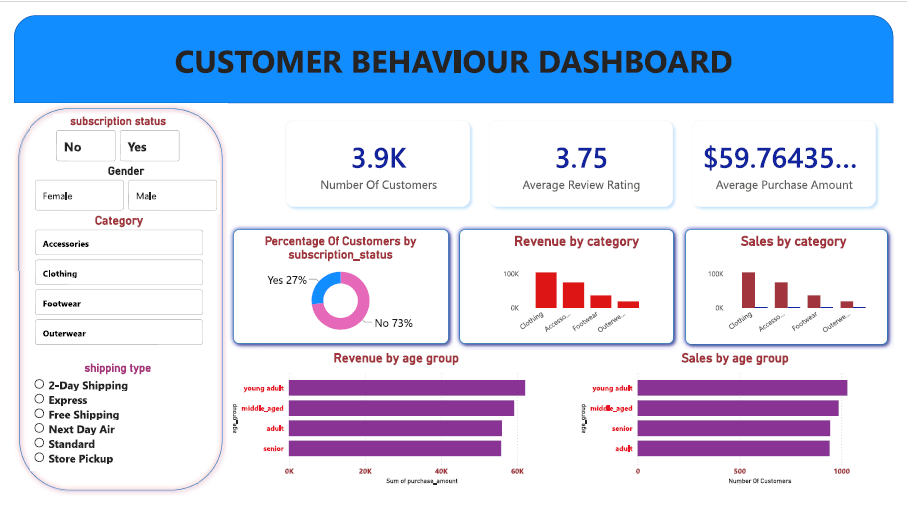

Layout of this report page (visuals, bound fields, positions):
{"tool":"powerbi","page":{"name":"Page 1","canvas":[1500,820],"ordinal":0},"visuals":[{"type":"cardVisual","fields":{"Data":["customer_shopping_behavior.Number Of Customers","customer_shopping_behavior.Average Review Rating","customer_shopping_behavior.Average Purchase Amount"]},"box":[435,149.6,1065,206.7],"z":0},{"type":"shape","box":[0,0,1500,149.6],"z":1000},{"type":"textbox","box":[0,35.4,1500,114.2],"z":2000},{"type":"shape","box":[364.9,357.2,386,213.2],"z":3000},{"type":"donutChart","title":"Percentage Of Customers by subscription_status","fields":{"Category":["customer_shopping_behavior.subscription_status"],"Y":["customer_shopping_behavior.Number Of Customers"]},"box":[388,372.6,338,182.5],"z":4000},{"type":"shape","box":[751,357.2,384.1,213.2],"z":5000},{"type":"shape","box":[1135.8,356.3,364.2,214.6],"z":6000},{"type":"clusteredColumnChart","title":"Revenue by category","fields":{"Category":["customer_shopping_behavior.category"],"Y":["Sum(customer_shopping_behavior.purchase_amount)"]},"box":[828.7,372,261.8,183.1],"z":7000},{"type":"clusteredColumnChart","title":"Sales by category","fields":{"Category":["customer_shopping_behavior.category"],"Y":["Sum(customer_shopping_behavior.purchase_amount)","customer_shopping_behavior.Number Of Customers"]},"box":[1178.3,371.7,303.3,183.3],"z":8000},{"type":"shape","box":[0,149.8,364.9,670.3],"z":9000},{"type":"advancedSlicerVisual","title":"subscription status","fields":{"Values":["customer_shopping_behavior.subscription_status"]},"box":[67.2,169,220.9,84.5],"z":10000},{"type":"advancedSlicerVisual","title":"Category","fields":{"Label":["Min(customer_shopping_behavior.category)"],"Values":["customer_shopping_behavior.category"]},"box":[30.7,338,295.8,232.4],"z":11000},{"type":"listSlicer","title":"shipping type","fields":{"Values":["customer_shopping_behavior.shipping_type"]},"box":[28.8,589.6,295.8,186.3],"z":12000},{"type":"clusteredBarChart","title":"Revenue by age group","fields":{"Category":["customer_shopping_behavior.age_group"],"Y":["Sum(customer_shopping_behavior.purchase_amount)"]},"box":[364.9,572.3,574.3,232.4],"z":13000},{"type":"clusteredBarChart","title":"Sales by age group","fields":{"Category":["customer_shopping_behavior.age_group"],"Y":["customer_shopping_behavior.Number Of Customers"]},"box":[960.3,572.3,539.7,232.4],"z":14000},{"type":"advancedSlicerVisual","title":"Gender","fields":{"Values":["customer_shopping_behavior.gender"]},"box":[30.7,253.5,320.7,84.5],"z":15000}]}

Visuals, with their boxes in screenshot pixels (x1, y1, x2, y2), scaled from the page's 1500x820 canvas onto the 907x505 screenshot:
cardVisual - customer_shopping_behavior.Number Of Customers x customer_shopping_behavior.Average Review Rating: (left=263, top=92, right=906, bottom=219)
shape: (left=0, top=0, right=906, bottom=92)
textbox: (left=0, top=22, right=906, bottom=92)
shape: (left=221, top=220, right=454, bottom=351)
"Percentage Of Customers by subscription_status" donutChart: (left=235, top=229, right=439, bottom=342)
shape: (left=454, top=220, right=686, bottom=351)
shape: (left=687, top=219, right=906, bottom=352)
"Revenue by category" clusteredColumnChart: (left=501, top=229, right=659, bottom=342)
"Sales by category" clusteredColumnChart: (left=712, top=229, right=896, bottom=342)
shape: (left=0, top=92, right=221, bottom=504)
"subscription status" advancedSlicerVisual: (left=41, top=104, right=174, bottom=156)
"Category" advancedSlicerVisual: (left=19, top=208, right=197, bottom=351)
"shipping type" listSlicer: (left=17, top=363, right=196, bottom=478)
"Revenue by age group" clusteredBarChart: (left=221, top=352, right=568, bottom=496)
"Sales by age group" clusteredBarChart: (left=581, top=352, right=906, bottom=496)
"Gender" advancedSlicerVisual: (left=19, top=156, right=212, bottom=208)
